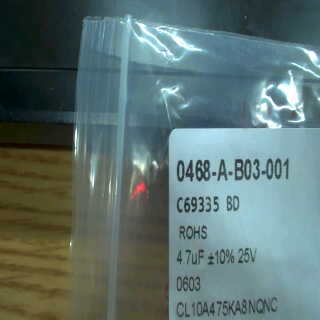4.7uF: (172, 244, 206, 270)
